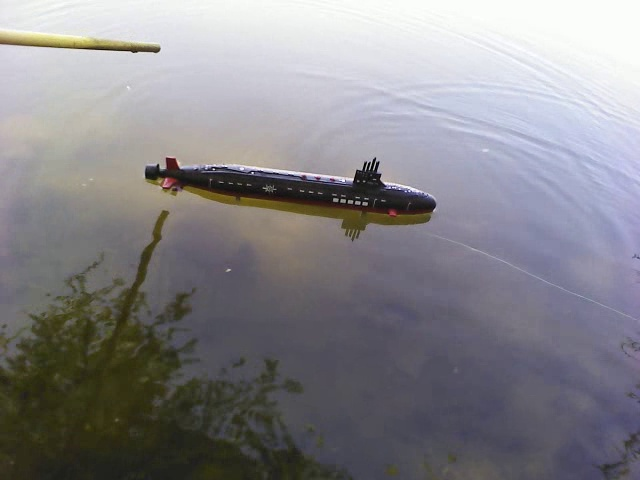submarine: (144, 153, 440, 222)
